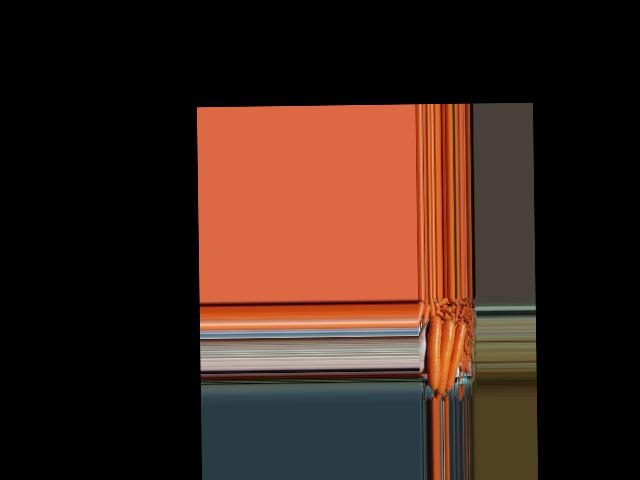carrot: (427, 314, 446, 392)
